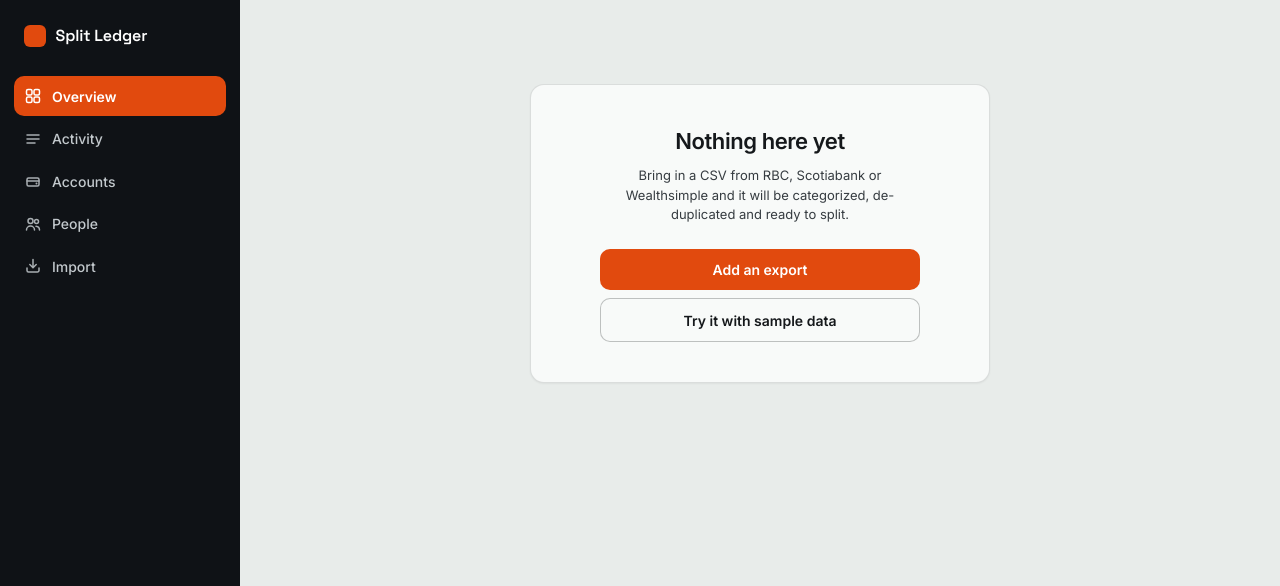
Test case: App › names what each institution's export looks like
Click the button "Try it with sample data": [760, 320] box x1=600 y1=298 x2=920 y2=342
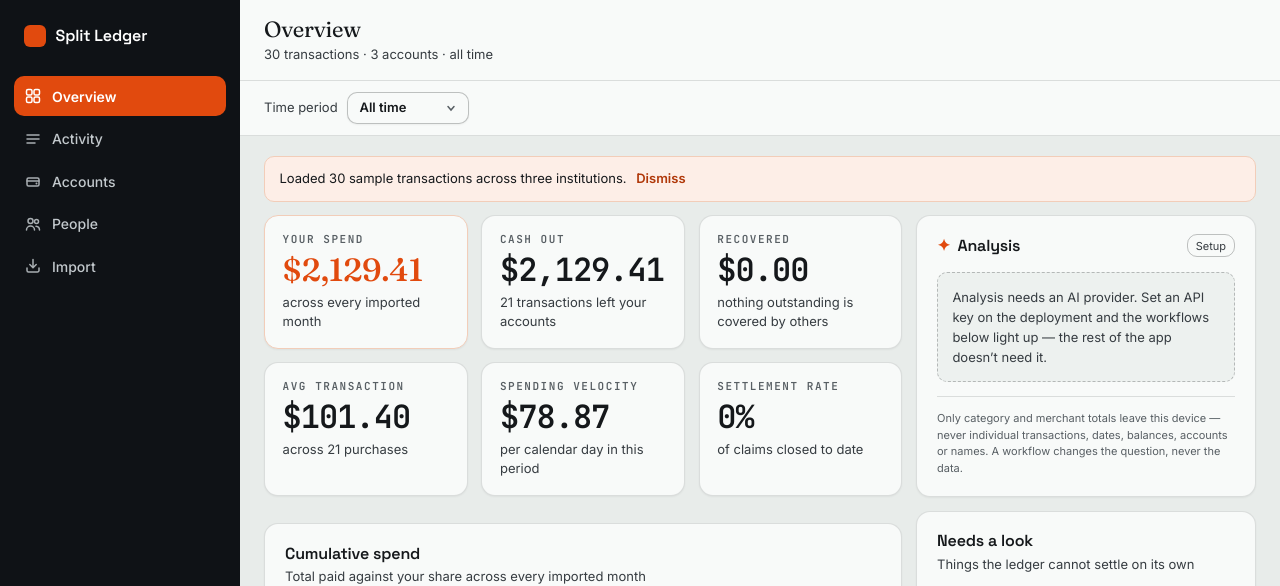
Click the button "Import": [120, 266] box x1=14 y1=246 x2=226 y2=286
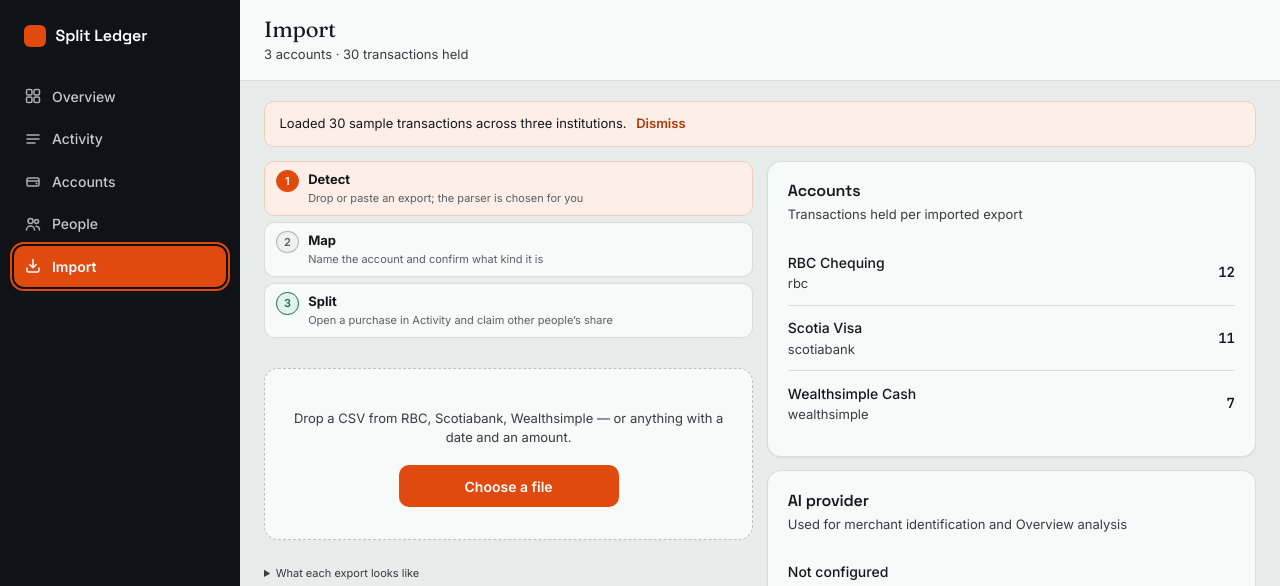
Click the heading "What each export looks like": [347, 573] box x1=276 y1=566 x2=419 y2=580
(page scrolled)
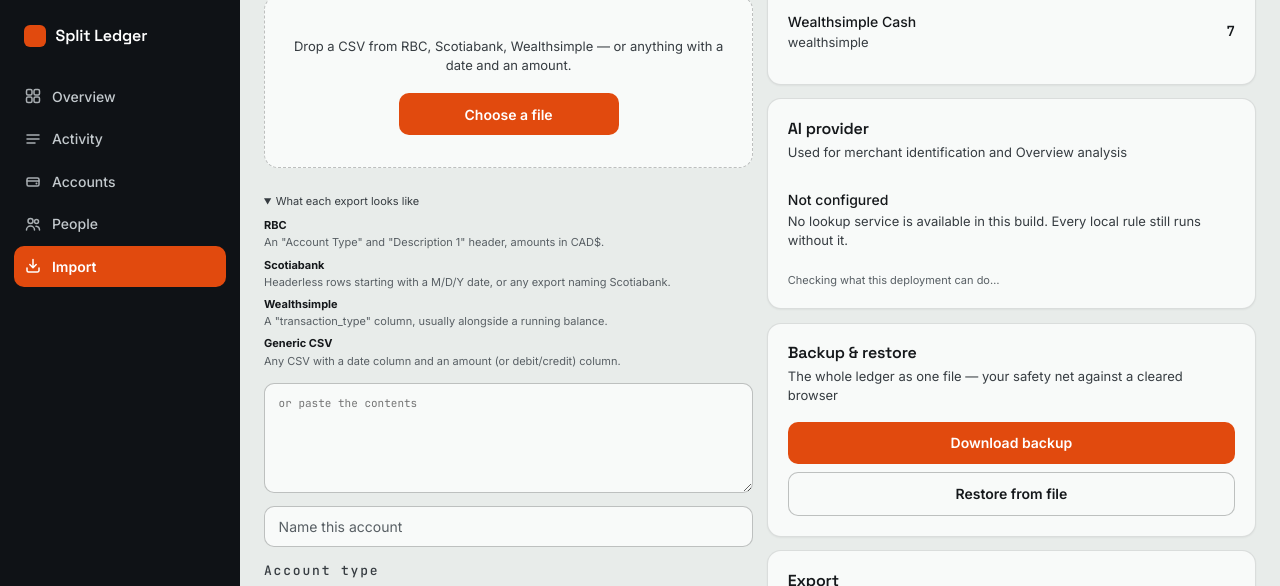
Check: the text "transaction_type" is shown, box x1=264 y1=314 x2=608 y2=328
Check: the text "date column and an amount" is shown, box x1=264 y1=354 x2=621 y2=368
